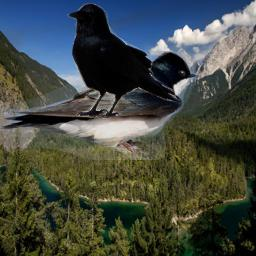Crow: (65, 2, 181, 119)
Swallow: (0, 51, 196, 160)
